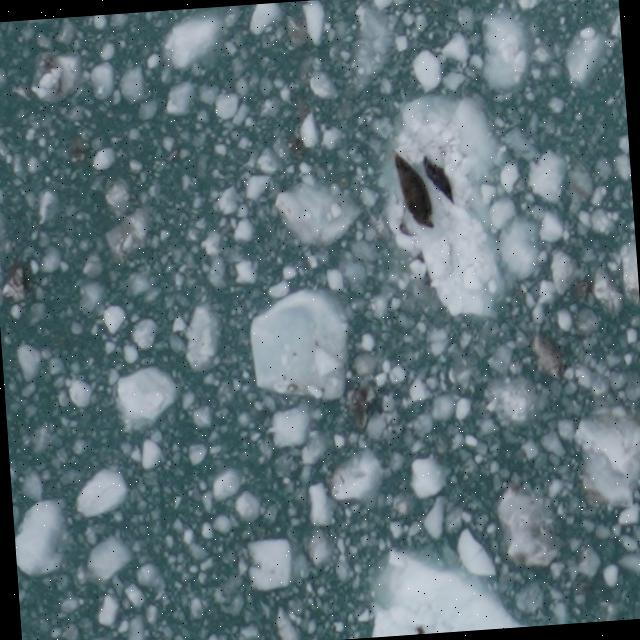seal: (388, 147, 438, 232), (419, 151, 458, 211), (415, 624, 425, 633)
